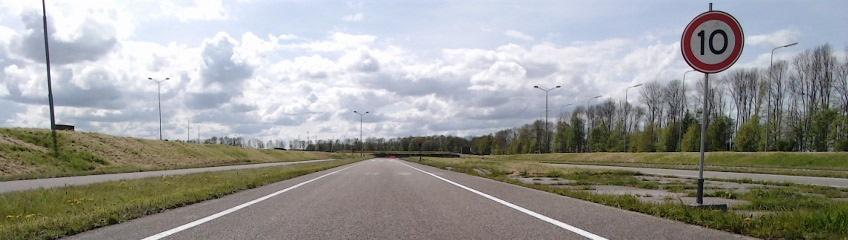Speed-limit-10km-h-: (681, 10, 744, 74)
